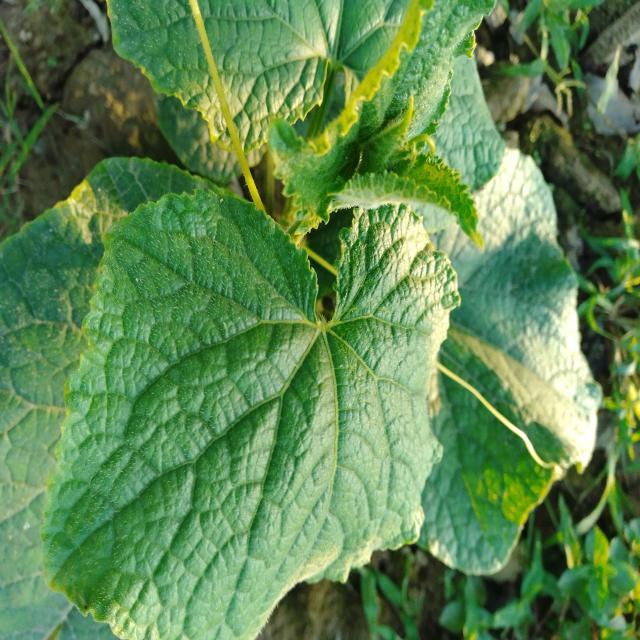cucumber_healthy: (37, 173, 464, 640), (384, 142, 607, 580), (92, 0, 496, 148)
